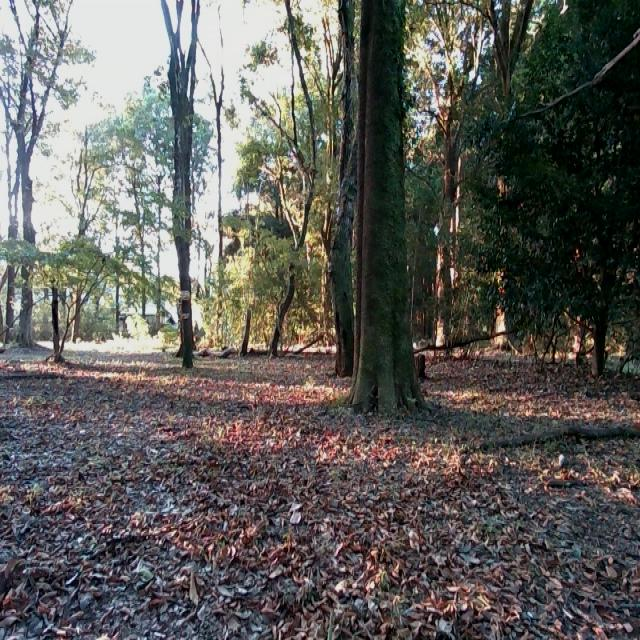tree: (343, 0, 431, 410), (259, 0, 320, 360), (160, 0, 205, 372), (1, 0, 44, 344), (585, 129, 629, 368), (48, 264, 70, 359)
